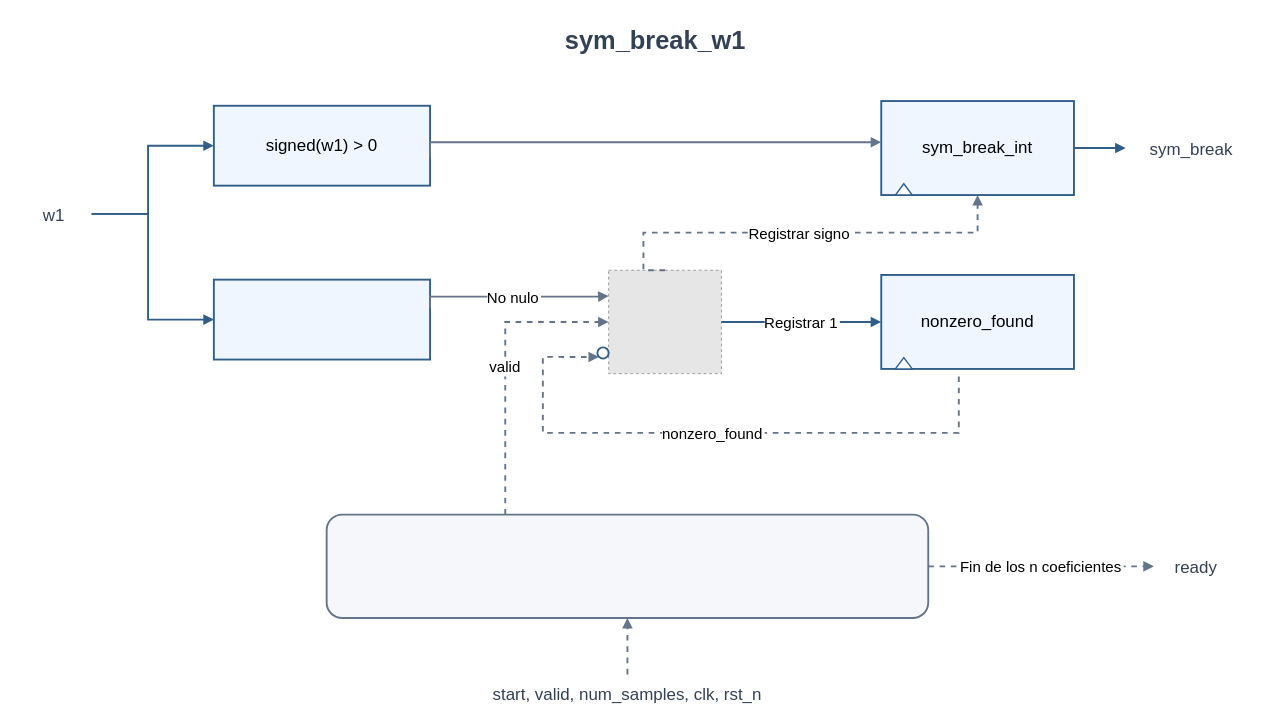
Image size: 1273x728. Some labels were removed from this diagram. Grey dashed boxes stand in for pictures. The shapes that lost their labels are listed below. From the top down, each one's centre as x and y in pixels, then its label:
the point at 321,319: w1 ≠ 0
the point at 627,566: Unidad de control Contador de coeficientes
